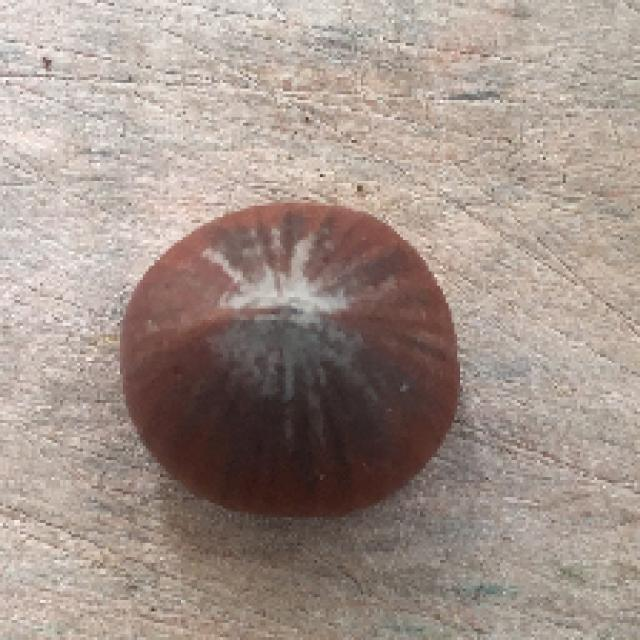damagedHazelnut: (112, 187, 467, 529)
